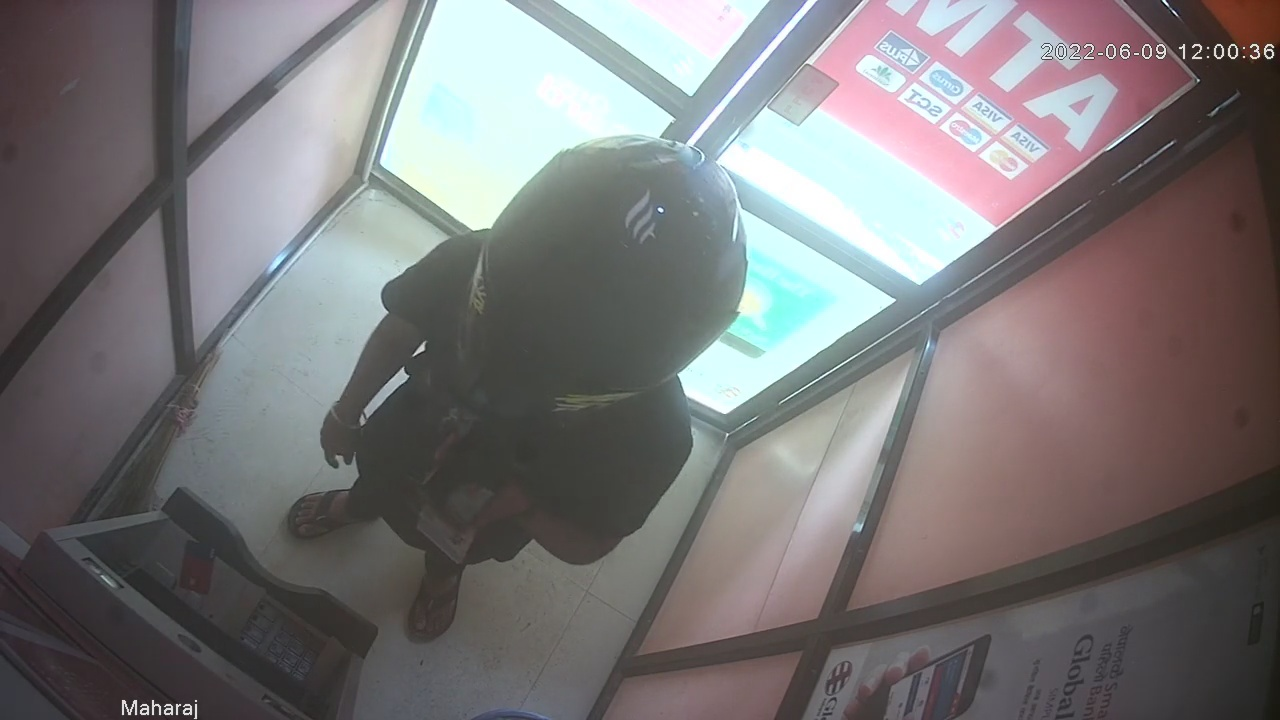helmet: (457, 132, 749, 425)
person: (286, 133, 751, 646)
